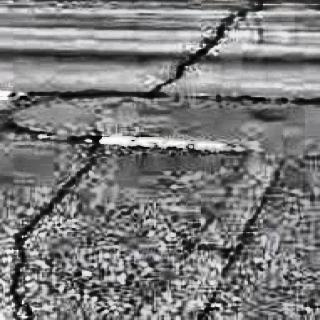crack: (0, 123, 104, 320), (142, 0, 266, 96)
